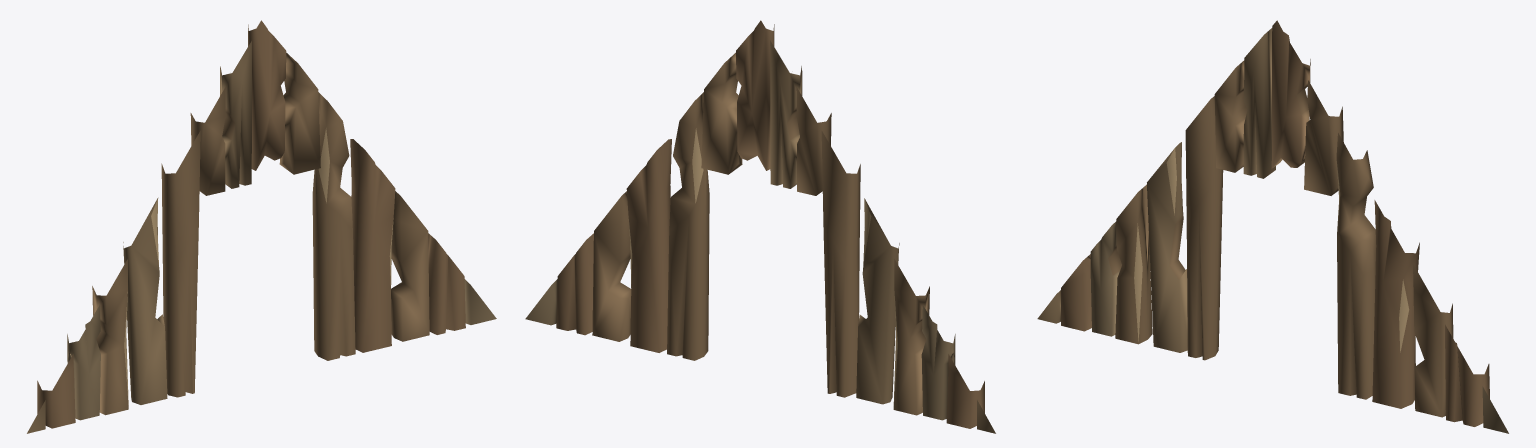
The model's file is rpgpp_av_roof_end_01_6x5_wall_door_02a.gltf.
The picture shows the model from 3 angles, left to right: view 1: azimuth 30°, elevation 25°; view 2: azimuth 150°, elevation 25°; view 3: azimuth 330°, elevation 25°; orthographic projection.
Parts seen in each view (by area): view 1: rpgpp_av_roof_end_01_6x5_wall_door_02a; view 2: rpgpp_av_roof_end_01_6x5_wall_door_02a; view 3: rpgpp_av_roof_end_01_6x5_wall_door_02a.
Part boxes in pixels (box(x1,y1,x2,y2)): rpgpp_av_roof_end_01_6x5_wall_door_02a: box(27, 20, 496, 433); rpgpp_av_roof_end_01_6x5_wall_door_02a: box(525, 20, 995, 433); rpgpp_av_roof_end_01_6x5_wall_door_02a: box(1037, 20, 1508, 433).
Size of the model in its own units: 0.0675 by 0.0485 by 0.00388.
Materials: 1 (1 with a texture image).
